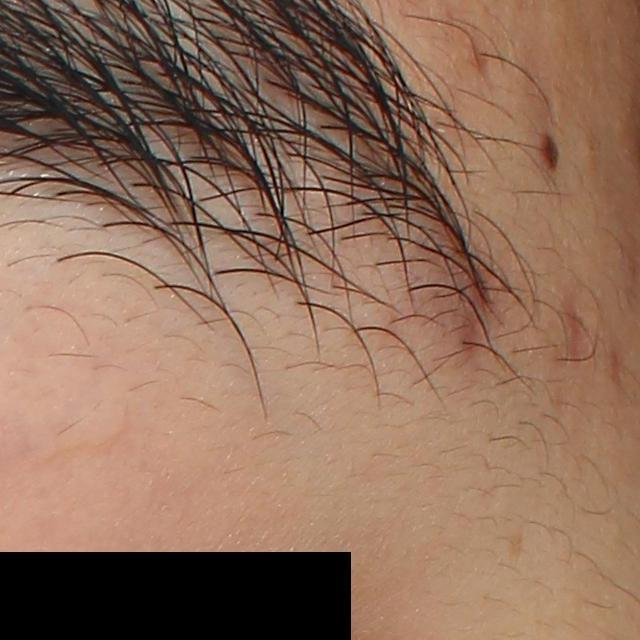atrophic_scar: (542, 300, 592, 382)
nevus: (540, 127, 560, 173)
